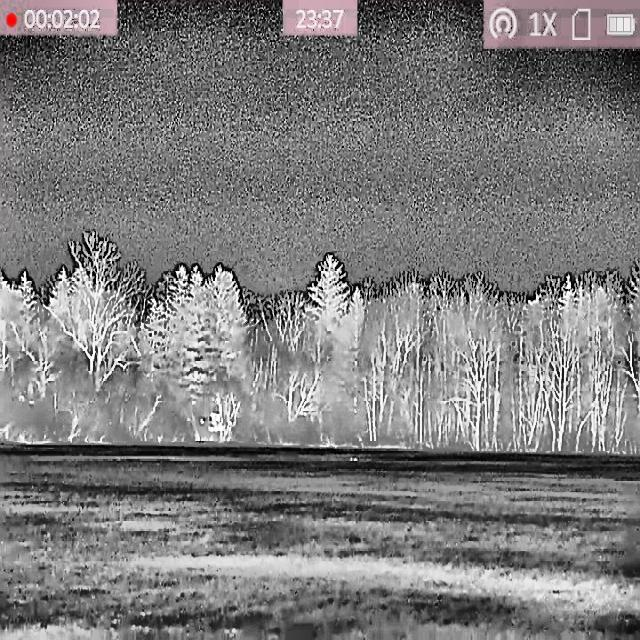drone: (200, 408, 228, 433)
